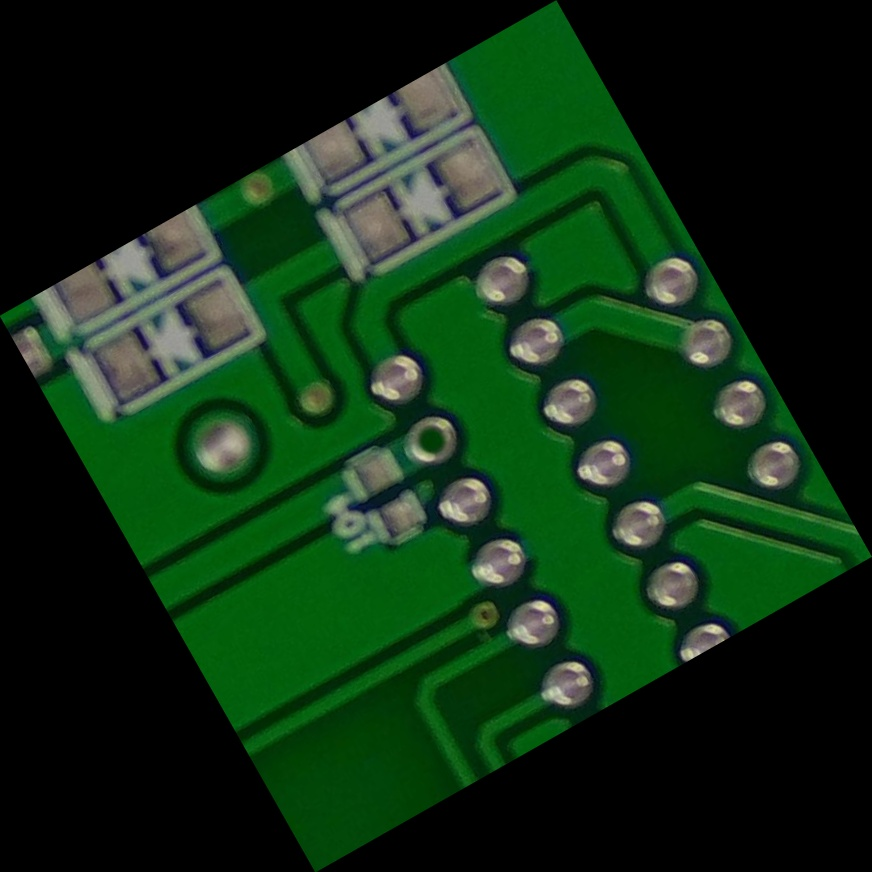missing_hole: (386, 388, 487, 485)
